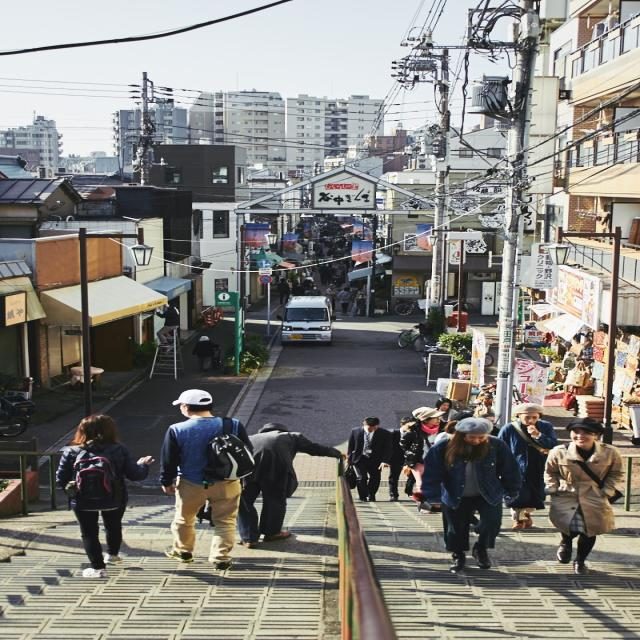body: (156, 386, 258, 572), (50, 410, 157, 580), (419, 416, 524, 574), (235, 422, 350, 549), (539, 416, 629, 576), (496, 402, 558, 530), (299, 223, 359, 318), (398, 405, 448, 514), (341, 416, 396, 505), (384, 415, 418, 501), (432, 411, 474, 446), (154, 297, 182, 348), (190, 334, 220, 372), (433, 396, 461, 435), (478, 413, 500, 437), (336, 286, 353, 317), (288, 280, 306, 308), (275, 278, 293, 304), (299, 272, 315, 300), (325, 284, 340, 313), (317, 263, 328, 286), (327, 264, 337, 286), (306, 285, 324, 296), (314, 251, 324, 269), (342, 258, 351, 274), (326, 246, 335, 262)
